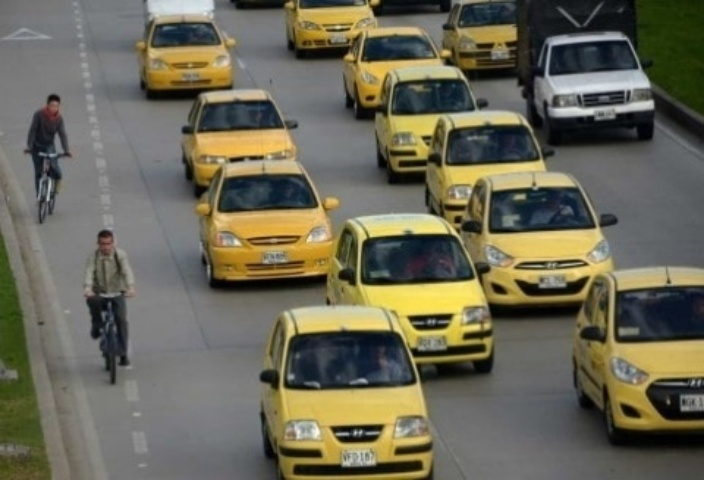motorcycle: (9, 74, 95, 252), (70, 211, 154, 376)
taxi: (257, 301, 446, 480), (329, 208, 507, 367), (562, 260, 704, 449), (450, 156, 612, 306), (195, 163, 339, 280), (333, 12, 464, 131), (418, 114, 546, 231), (164, 94, 307, 183), (375, 69, 483, 170), (141, 5, 244, 109), (449, 3, 532, 80), (295, 1, 367, 58)
truck: (521, 1, 668, 149)
